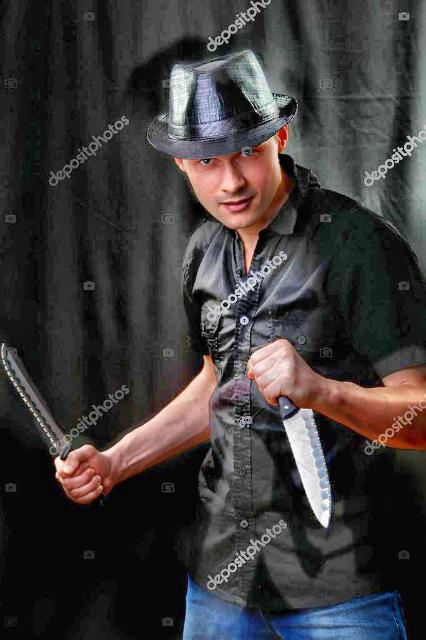knife: (245, 333, 341, 534), (0, 336, 104, 504)
